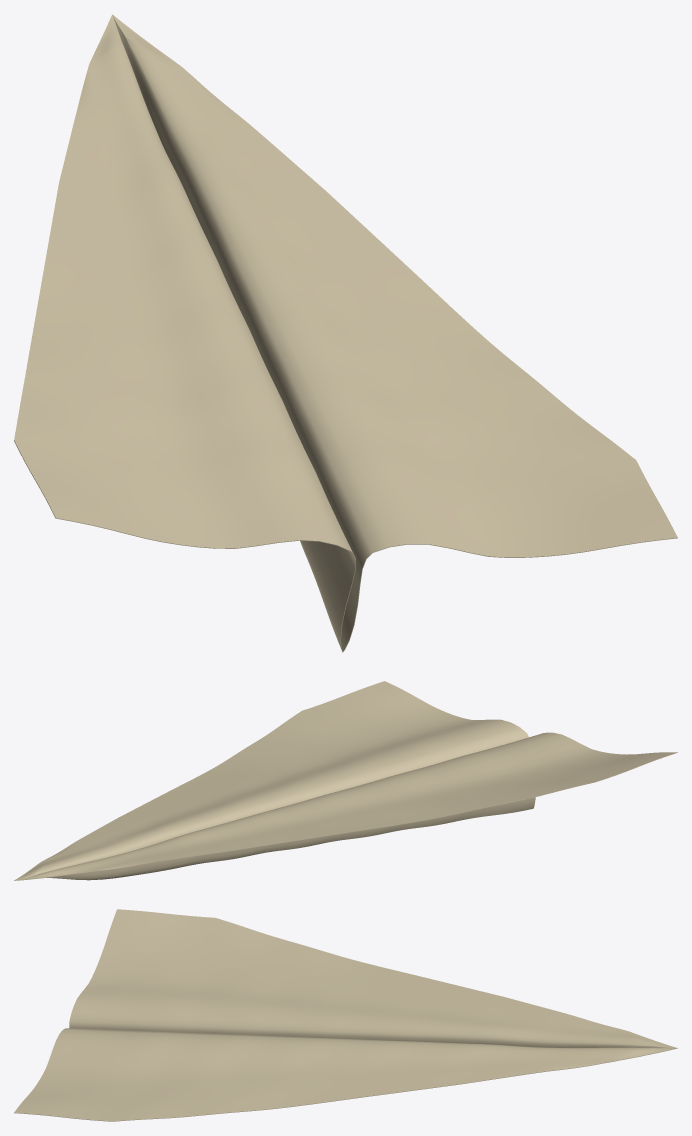
Rendered from Paper Plane.fbx.
3 views of the same model, one above another, from view 1: azimuth 30°, elevation 25°; view 2: azimuth 150°, elevation 25°; view 3: azimuth 270°, elevation 25° (orthographic). The views are drawn at different scales.
Parts seen in each view (by area): view 1: Paper_Plane; view 2: Paper_Plane; view 3: Paper_Plane.
Part boxes in pixels (bbox=[...]): Paper_Plane: bbox=[14, 14, 677, 652]; Paper_Plane: bbox=[14, 681, 677, 880]; Paper_Plane: bbox=[14, 909, 677, 1121].
Bounding box in the file's own units: 260 × 84.67 × 442.
